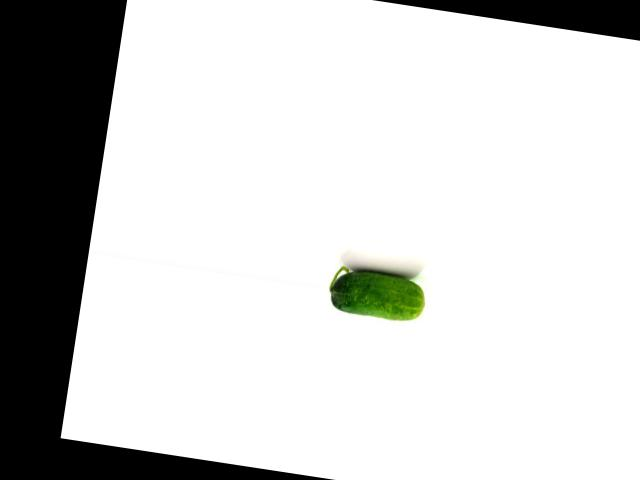cucumber: (327, 264, 430, 324)
